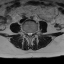CCS_normal: (29, 30, 30, 39)
LFS_normal: (32, 30, 34, 36)
LLS_normal: (30, 30, 32, 38)
RFS_stenosis: (25, 30, 27, 36)
RLS_normal: (27, 30, 29, 38)
